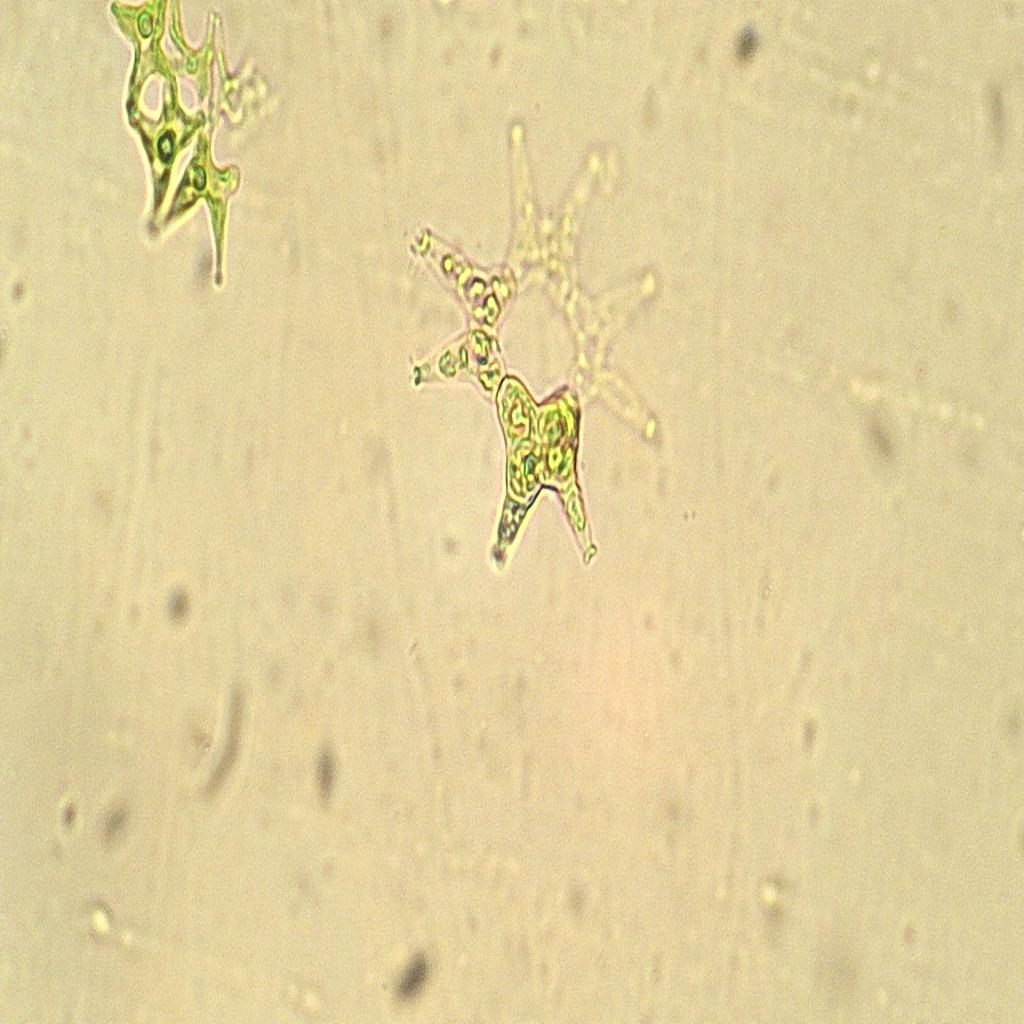Pediastrum_75TH: (385, 64, 691, 621)
